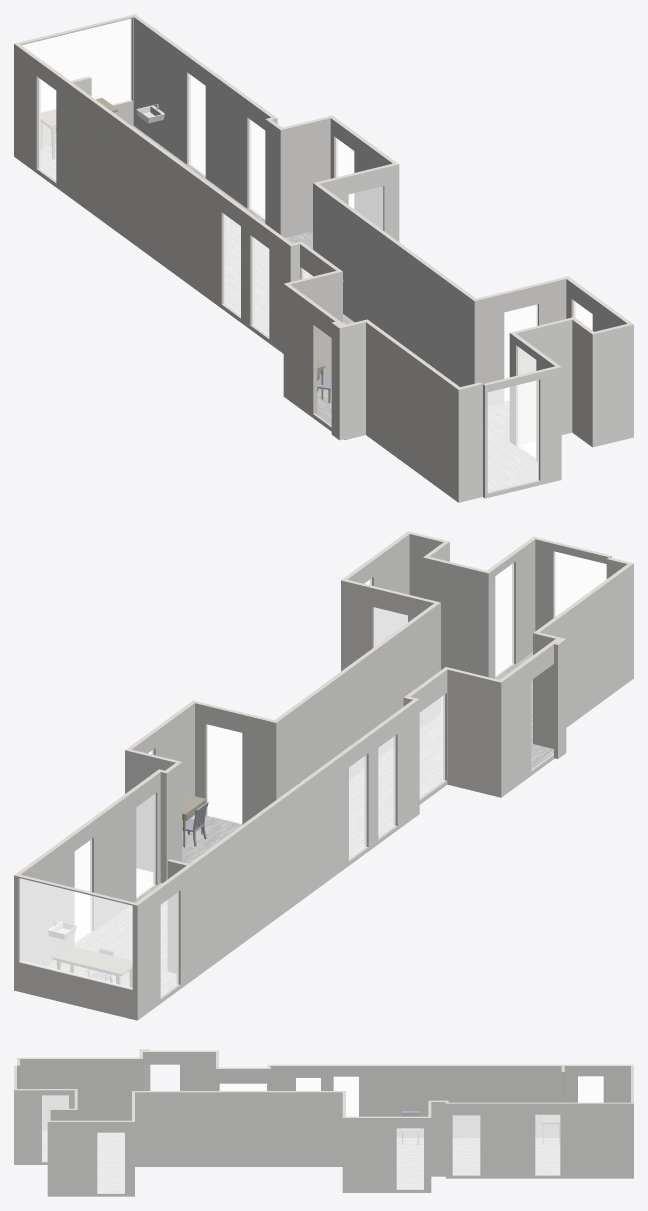
File: FloorThreeSouthHallway.glb
The picture shows the model from 3 angles, top to bottom: view 1: azimuth 30°, elevation 25°; view 2: azimuth 150°, elevation 25°; view 3: azimuth 270°, elevation 25°; orthographic projection. The views are drawn at different scales.
Visible parts, largest first — view 1: wall_13, wall_75, wall_77, wall_17, window_0, window_2, door_6, door_18, wall_4, wall_73, wall_79, wall_18 (+37 smaller); view 2: wall_13, wall_75, wall_77, window_0, window_2, wall_17, wall_12, wall_27, wall_31, wall_7, floor_Other_1, wall_18 (+41 smaller); view 3: wall_24, wall_25, wall_53, wall_61, wall_11, wall_9, floor_Other_2, wall_1, wall_71, floor_Other_1, wall_63, door_8 (+24 smaller).
Boxes of the visible parts, x1,y1,x2,y2 form: wall_13: [67, 83, 290, 353]; wall_75: [313, 183, 474, 387]; wall_77: [133, 17, 270, 208]; wall_17: [366, 322, 458, 502]; window_0: [22, 19, 131, 104]; window_2: [22, 19, 131, 104]; door_6: [488, 380, 538, 492]; door_18: [488, 380, 538, 491]; wall_4: [592, 324, 633, 447]; wall_73: [280, 118, 330, 237]; wall_79: [474, 279, 566, 406]; wall_18: [14, 44, 67, 195]; wall_13: [192, 699, 419, 980]; wall_75: [276, 602, 440, 799]; wall_77: [21, 772, 160, 966]; window_0: [20, 878, 132, 988]; window_2: [20, 878, 132, 988]; wall_17: [540, 563, 633, 727]; wall_12: [447, 669, 501, 797]; wall_27: [423, 557, 488, 677]; wall_31: [195, 703, 276, 824]; wall_7: [14, 875, 137, 1020]; floor_Other_1: [349, 652, 553, 852]; wall_18: [137, 866, 191, 1019]; wall_24: [135, 1092, 342, 1166]; wall_25: [445, 1103, 633, 1178]; wall_53: [270, 1066, 561, 1137]; wall_61: [20, 1059, 142, 1130]; wall_11: [342, 1118, 431, 1192]; wall_9: [47, 1122, 134, 1196]; floor_Other_2: [397, 1138, 559, 1188]; wall_1: [14, 1090, 74, 1164]; wall_71: [143, 1052, 215, 1090]; floor_Other_1: [42, 1131, 124, 1192]; wall_63: [564, 1066, 630, 1102]; door_8: [97, 1133, 124, 1192].
Bounding box in the file's own units: 5.64 × 2.71 × 20.35.
Materials: 69 (2 with a texture image).
